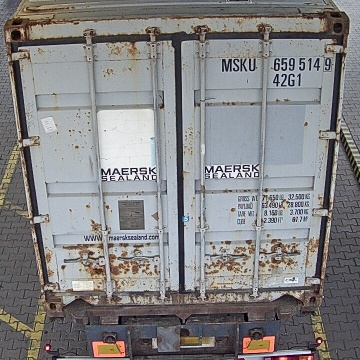serial_id: (222, 57, 332, 71)
